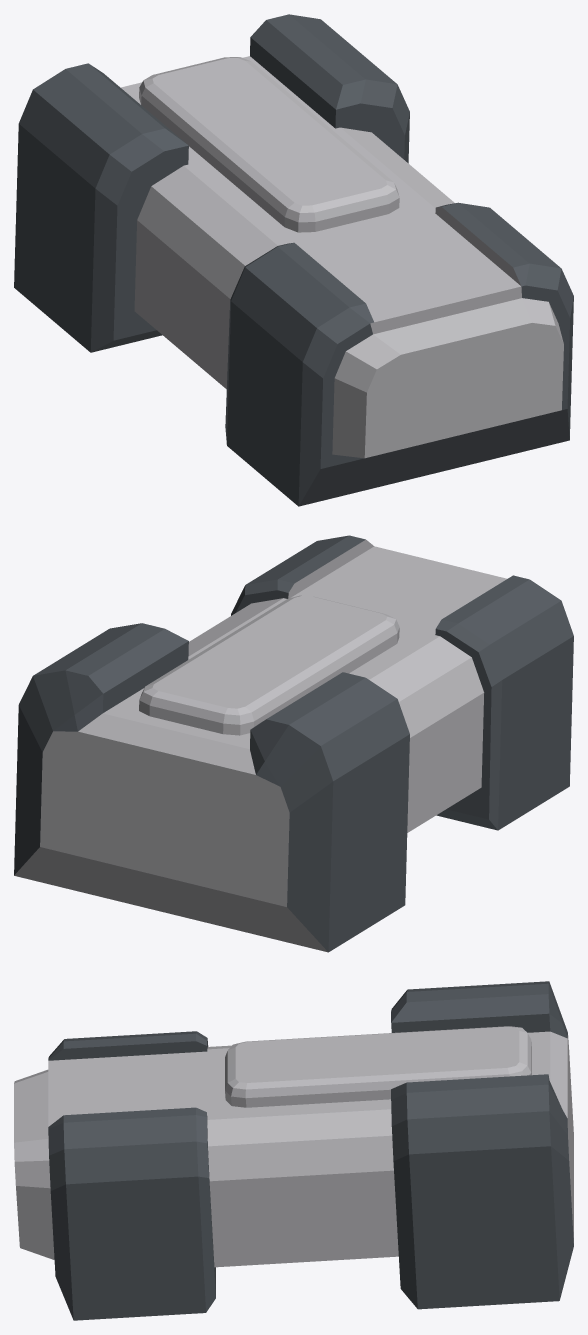
File: Fighter_04_Hatch.fbx
3 renders of one model, top to bottom at view 1: azimuth 30°, elevation 25°; view 2: azimuth 150°, elevation 25°; view 3: azimuth 270°, elevation 25°, orthographic. The views are drawn at different scales.
Visible parts, largest first — view 1: Fighter_04_Hatch; view 2: Fighter_04_Hatch; view 3: Fighter_04_Hatch.
Boxes of the visible parts, box(x1,y1,x2,y2) form: Fighter_04_Hatch: box(14, 14, 573, 506); Fighter_04_Hatch: box(14, 535, 573, 952); Fighter_04_Hatch: box(14, 981, 573, 1320).
Bounding box in the file's own units: 176 × 130 × 293.
1 material, 1 textured.
